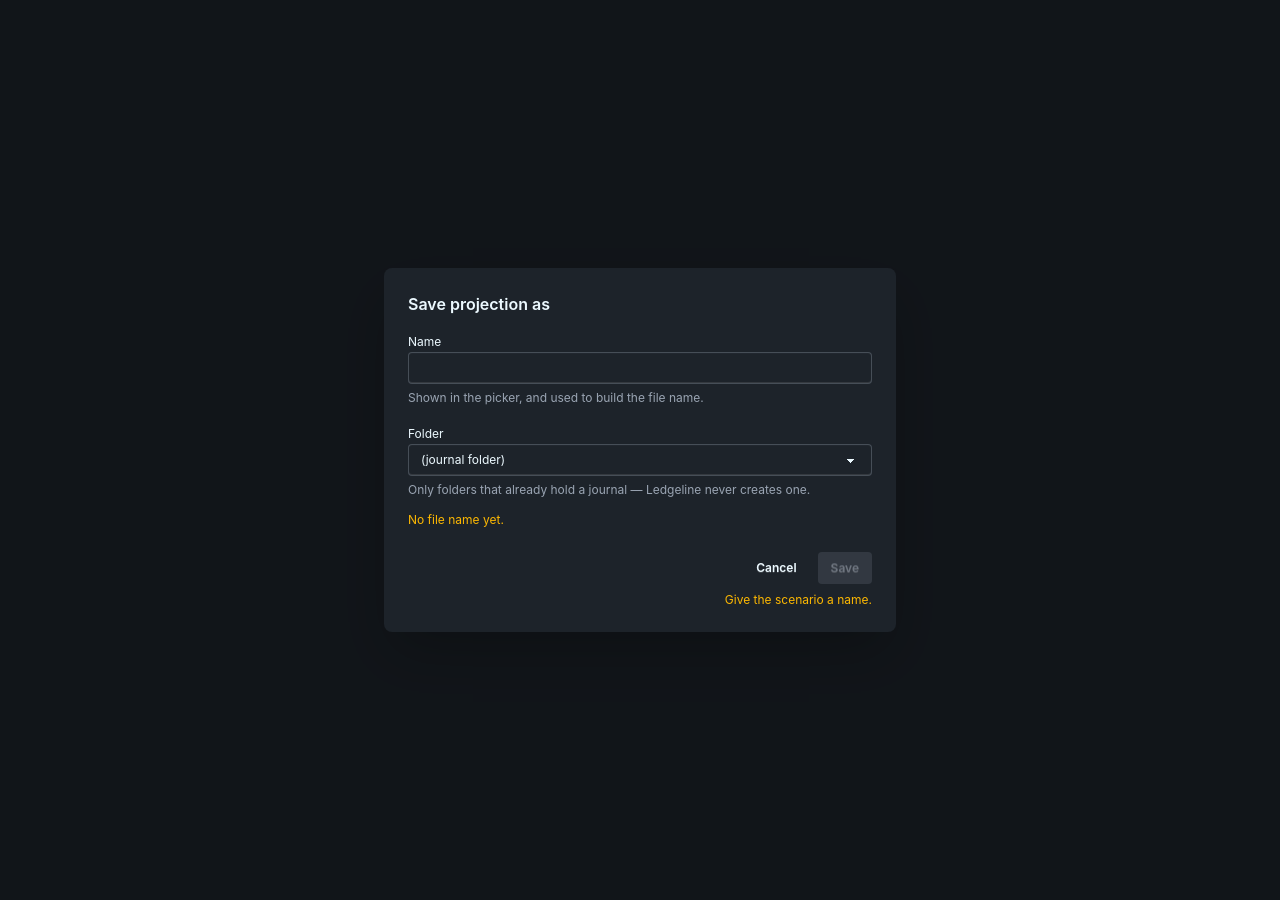
Test: COMPONENT SaveScenarioDialog › shows the resulting path as the name is typed
The image size is (1280, 900).
Type "Series B with a ramp" into the field with test id "projection-save-name" at x=640, y=368, box [408,352,872,384]
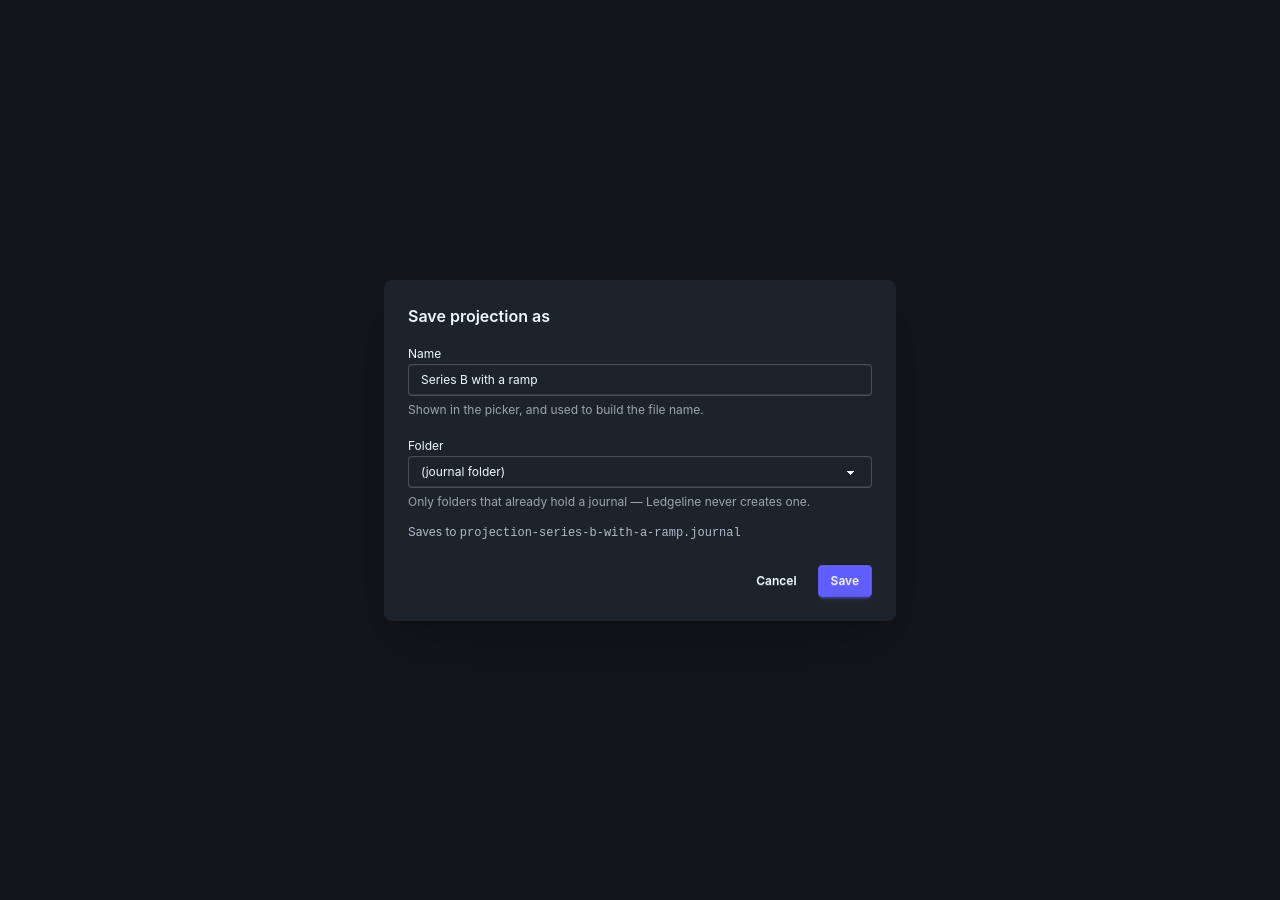
Expected: the element with test id "projection-save-path" shows "projection-series-b-with-a-ramp.journal", [460,526,741,540]
